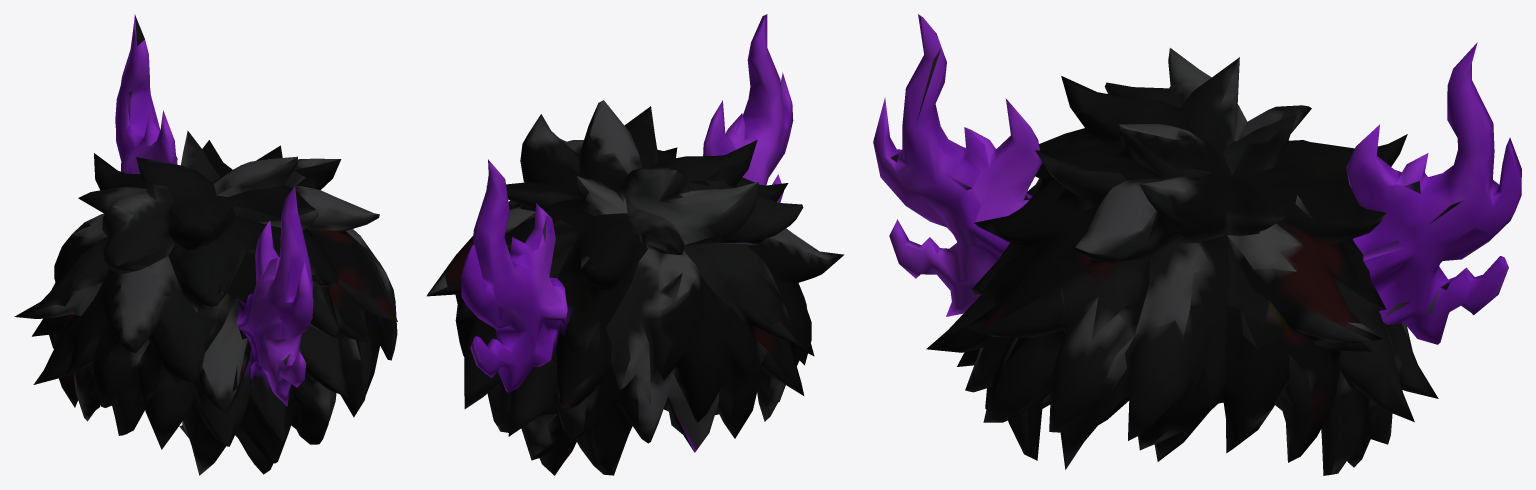
The model's file is Hair.glb.
3 views of the same model, side by side, from view 1: azimuth 30°, elevation 25°; view 2: azimuth 150°, elevation 25°; view 3: azimuth 270°, elevation 25° (orthographic). The views are drawn at different scales.
Parts seen in each view (by area): view 1: Hair; view 2: Hair; view 3: Hair.
Boxes of the visible parts, bbox=[...] form: Hair: bbox=[14, 14, 397, 475]; Hair: bbox=[426, 14, 844, 475]; Hair: bbox=[873, 14, 1521, 475].
Size of the model in its own units: 0.0676 by 0.0639 by 0.086.
Materials: 1 (1 with a texture image).
